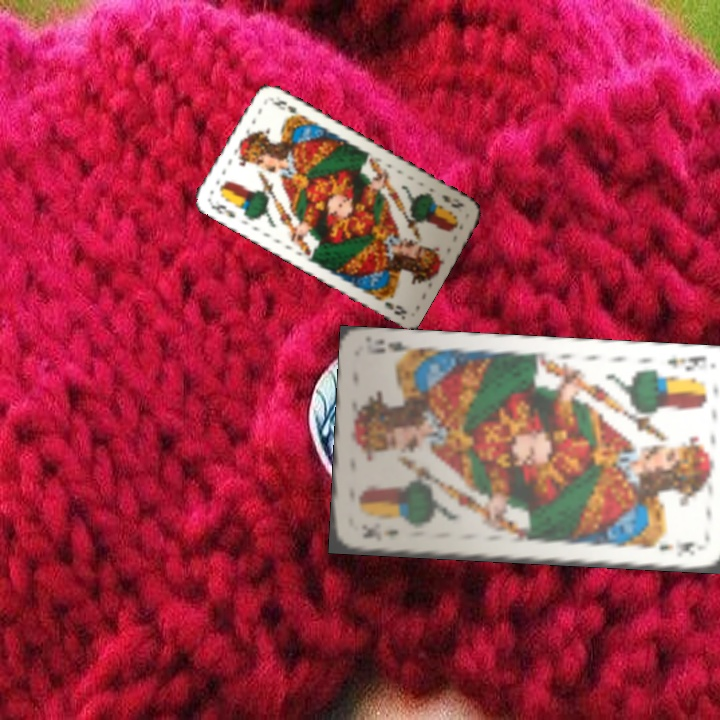EK: (663, 351, 710, 374), (359, 525, 401, 545), (206, 199, 238, 221), (437, 190, 467, 211)
